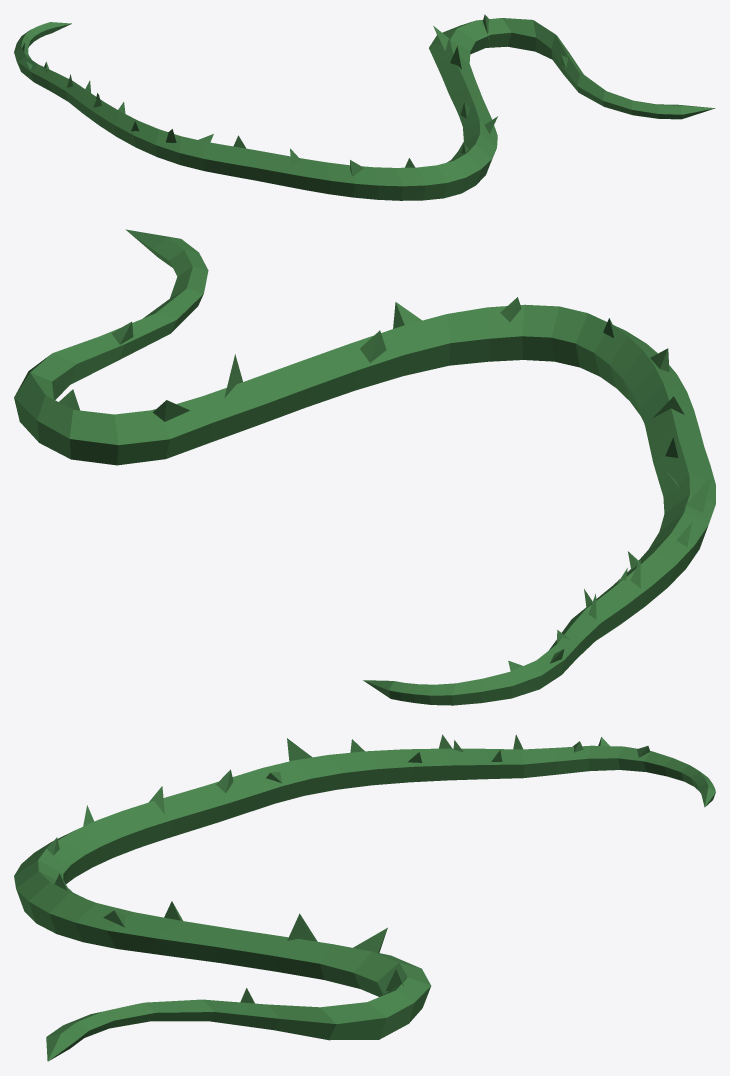
Rendered from vine 2.fbx.
3 views of the same model, one above another, from view 1: azimuth 30°, elevation 25°; view 2: azimuth 150°, elevation 25°; view 3: azimuth 270°, elevation 25° (orthographic). The views are drawn at different scales.
Visible parts, largest first — view 1: polySurface101; view 2: polySurface101; view 3: polySurface101.
Boxes of the visible parts, box(x1,y1,x2,y2) form: polySurface101: box(14, 14, 715, 200); polySurface101: box(14, 229, 715, 705); polySurface101: box(14, 734, 715, 1061).
Size of the model in its own units: 15.71 by 1.52 by 15.01.
